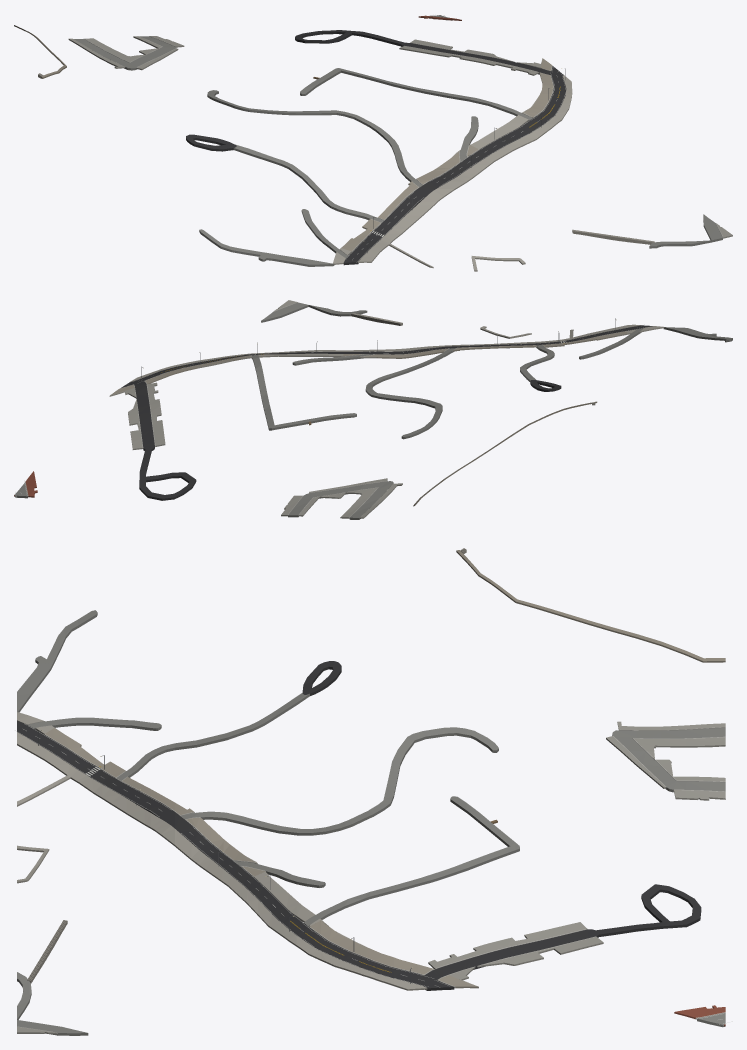
3 views of the same model, one above another, from view 1: azimuth 30°, elevation 25°; view 2: azimuth 150°, elevation 25°; view 3: azimuth 270°, elevation 25° (orthographic). The views are drawn at different scales.
Bounding box in the file's own units: 296 × 84.26 × 296.
